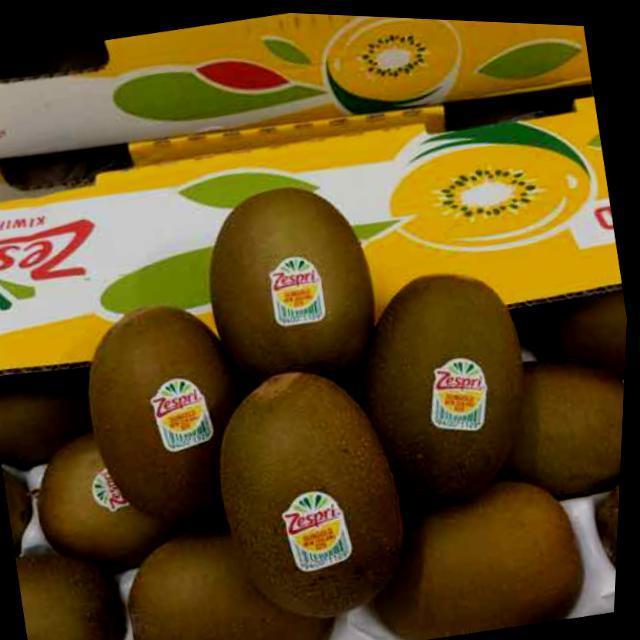kiwi: (200, 347, 436, 639), (334, 250, 562, 517), (67, 287, 278, 539), (188, 167, 399, 407), (359, 454, 607, 640), (446, 329, 630, 522), (113, 496, 359, 640), (25, 412, 213, 587)
